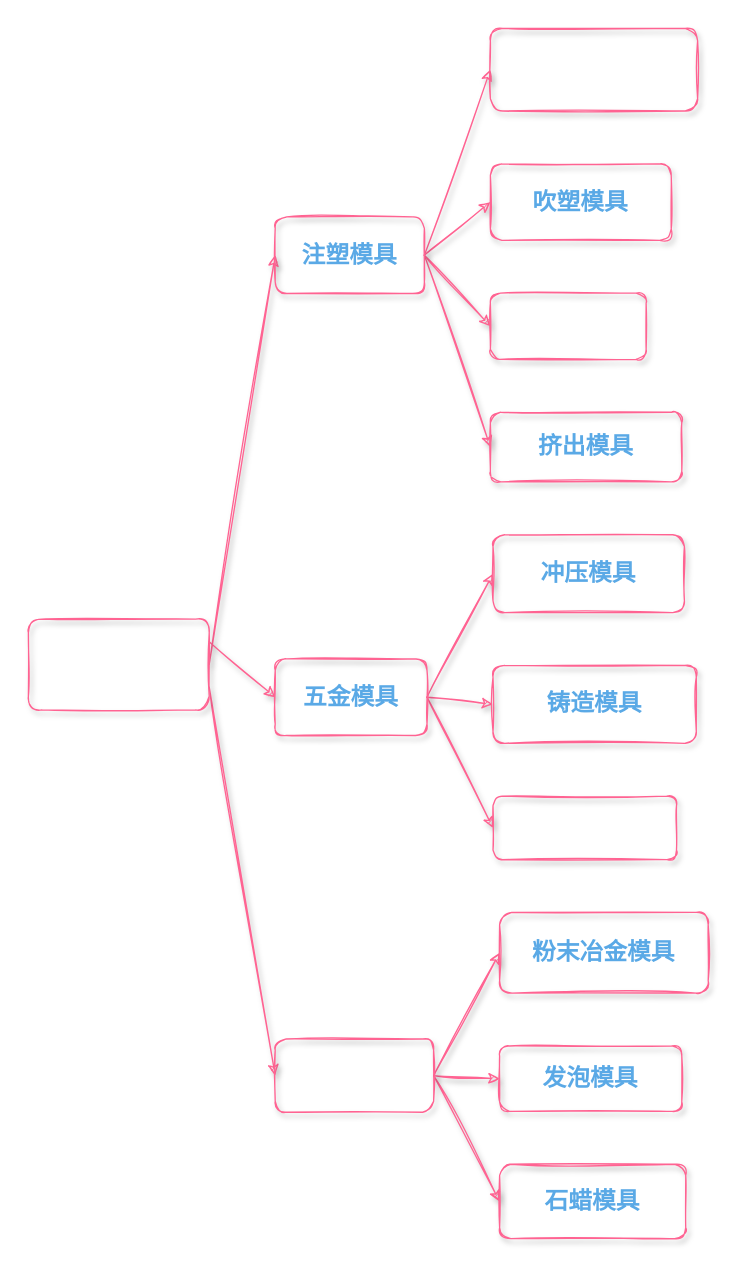
Some shapes in this 739 by 1271 pixel diagram are drawn without their labels. Each missing label, with the centre of its shape:
"其他类模具" goes at point (355, 1076).
"压铸模具" goes at point (585, 829).
"塑胶模具" goes at point (595, 71).
"模具种类" goes at point (119, 665).
"硅胶模具" goes at point (569, 328).
